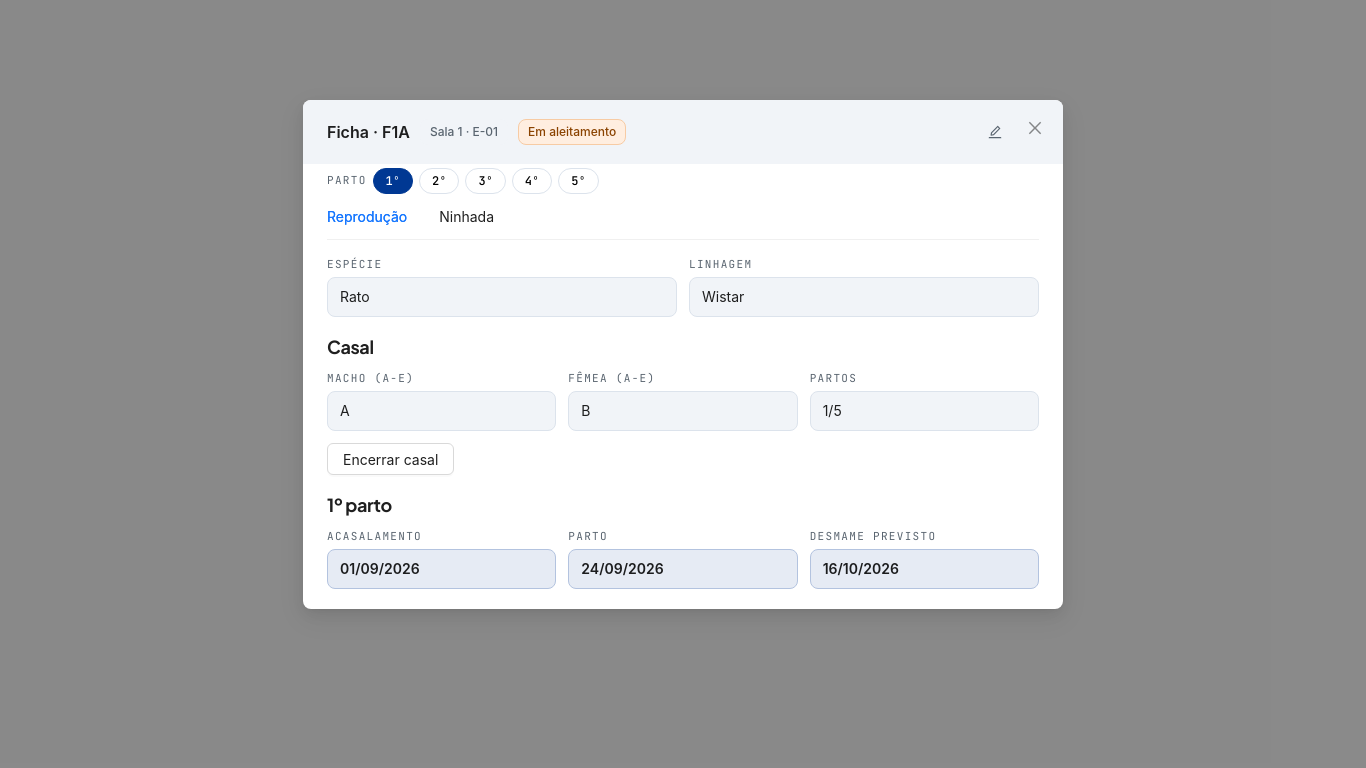
Test case: formulários da ficha › o campo que o formulário não tem vira o motivo no aviso
What coordinates should you click on to do the following:
click the tab "Ninhada"
I would click on:
 (467, 217)
Its box is x1=439 y1=206 x2=494 y2=228.
(page scrolled)
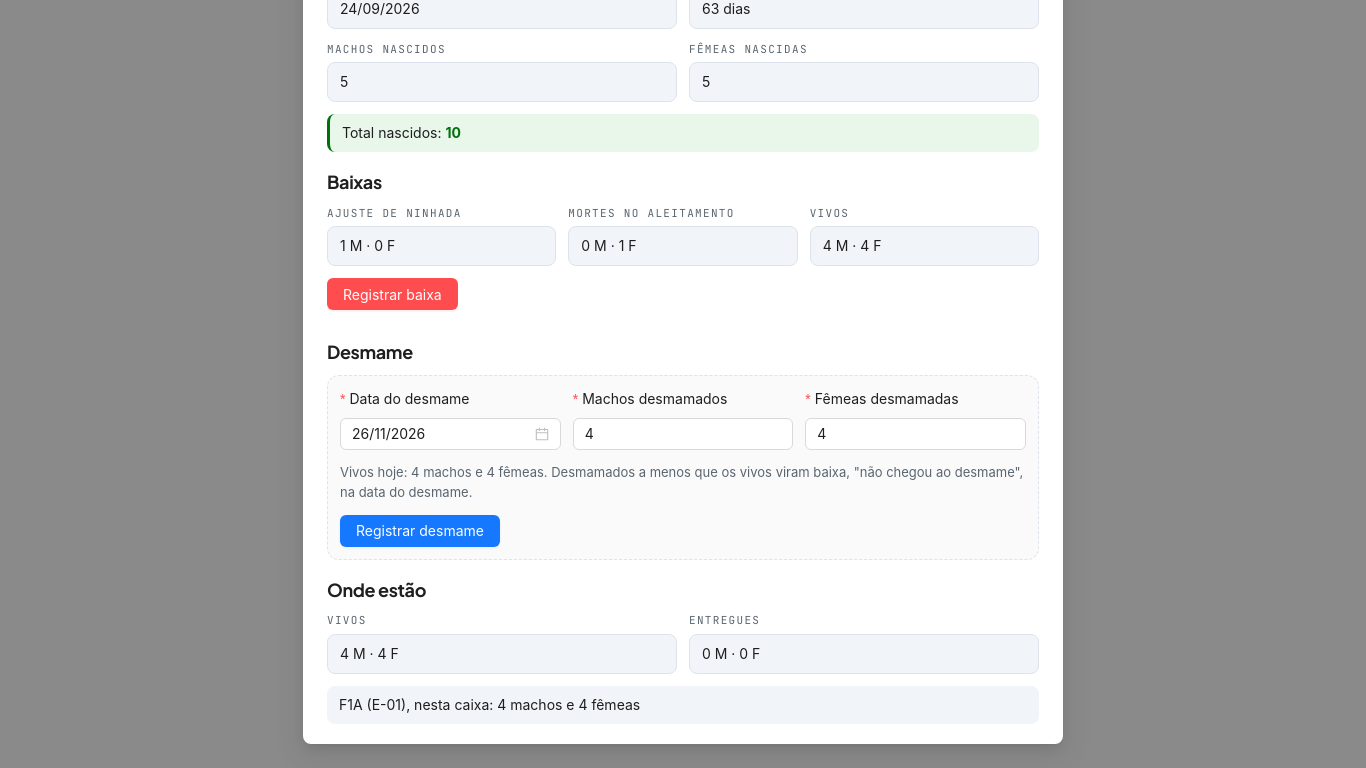
What coordinates should you click on to do the following:
click the button "Registrar desmame"
I would click on:
 (420, 531)
Its box is x1=340 y1=515 x2=500 y2=547.
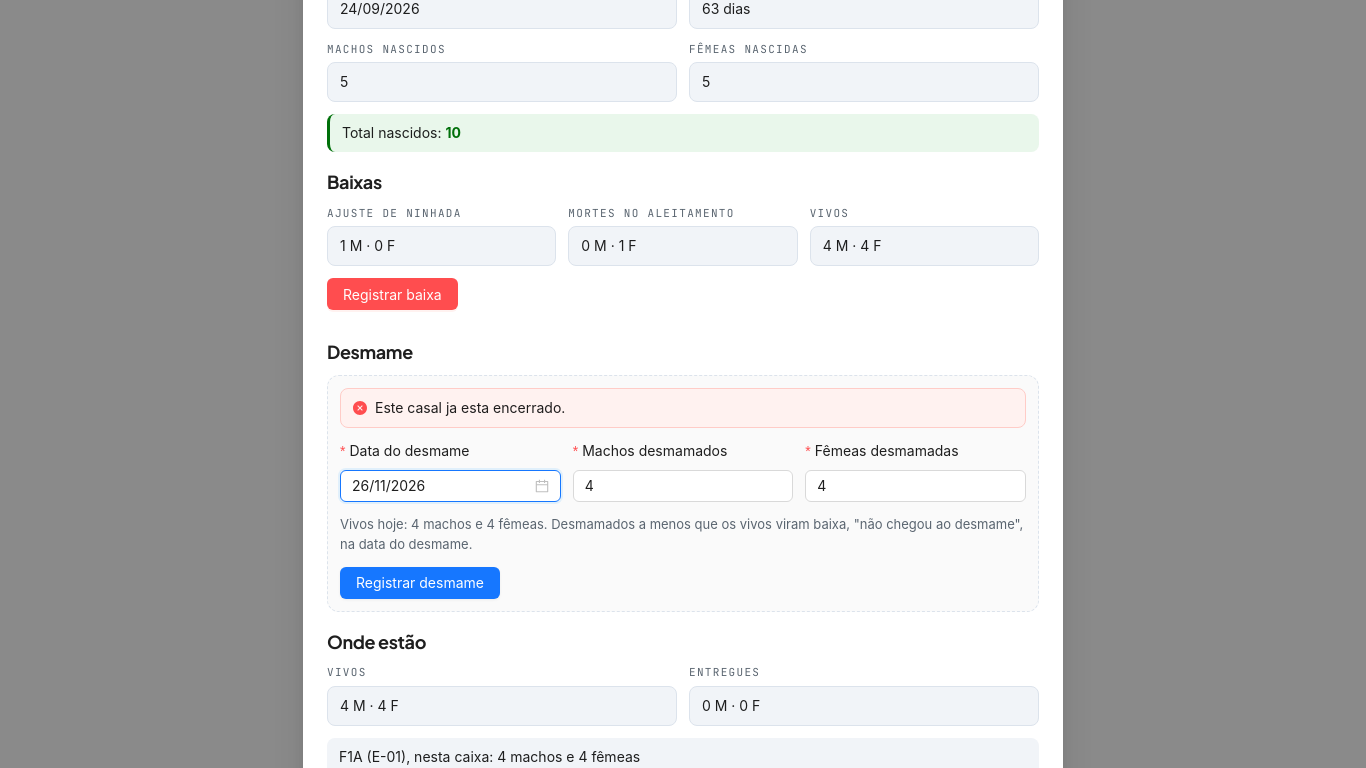
Expected: the text "Este casal ja esta encerrado." is shown, x1=375 y1=399 x2=565 y2=416
